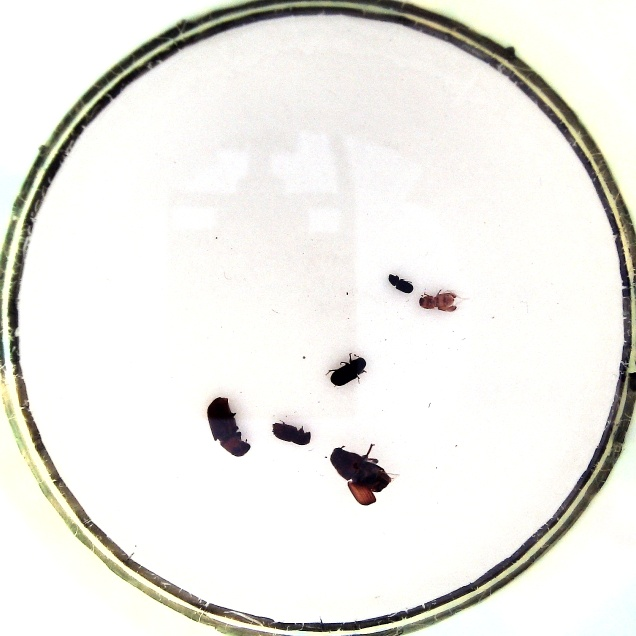acuminatus: (415, 289, 457, 316)
armandi: (325, 351, 368, 388)
coleoptera: (386, 271, 414, 297)
leconte: (329, 444, 397, 506), (206, 395, 253, 458)
linnaeus: (269, 420, 312, 447)
